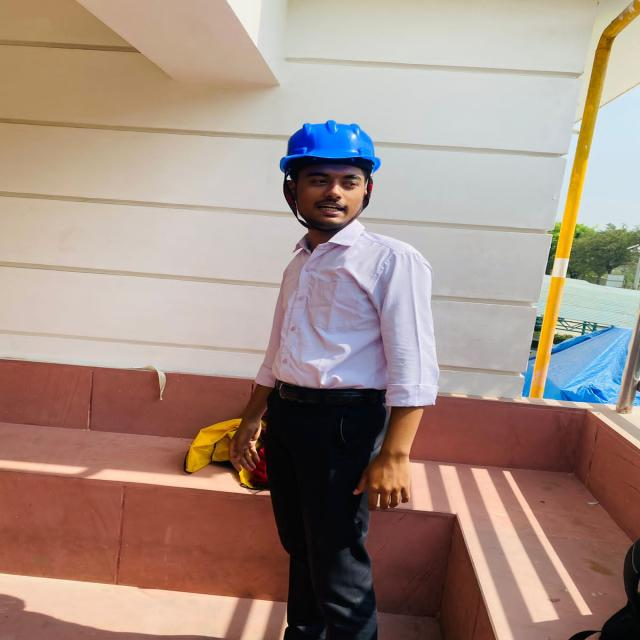no jacket: (269, 122, 434, 640)
